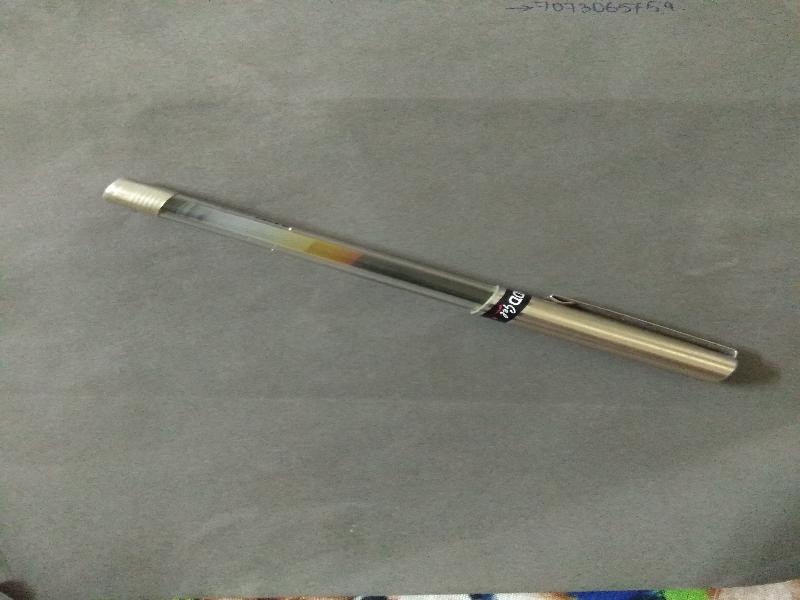pen: (100, 166, 753, 387)
